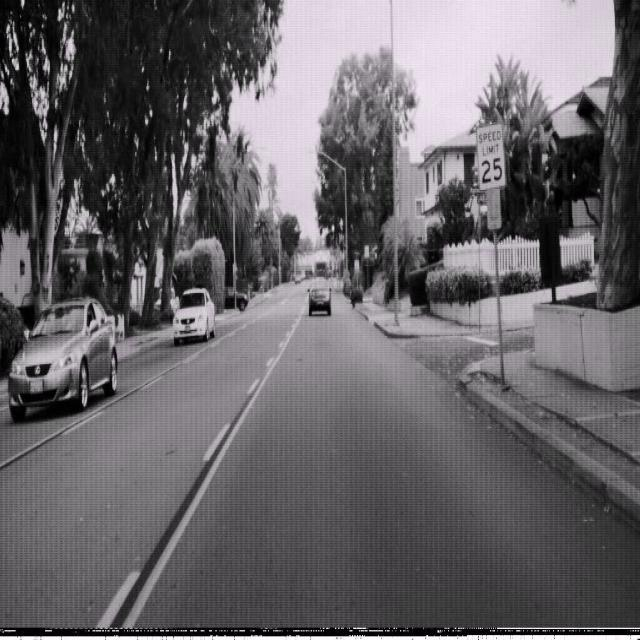speedLimit25: (475, 120, 507, 191)
